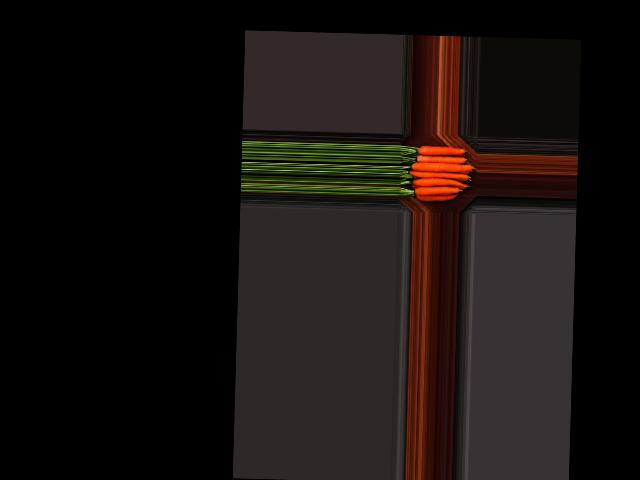carrot: (414, 191, 463, 205)
